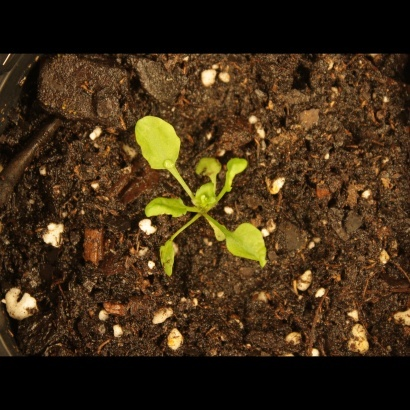leaf: (122, 109, 185, 173), (222, 221, 274, 270), (137, 191, 187, 224), (156, 234, 184, 279), (224, 154, 249, 194), (192, 182, 220, 209), (194, 154, 224, 177)
